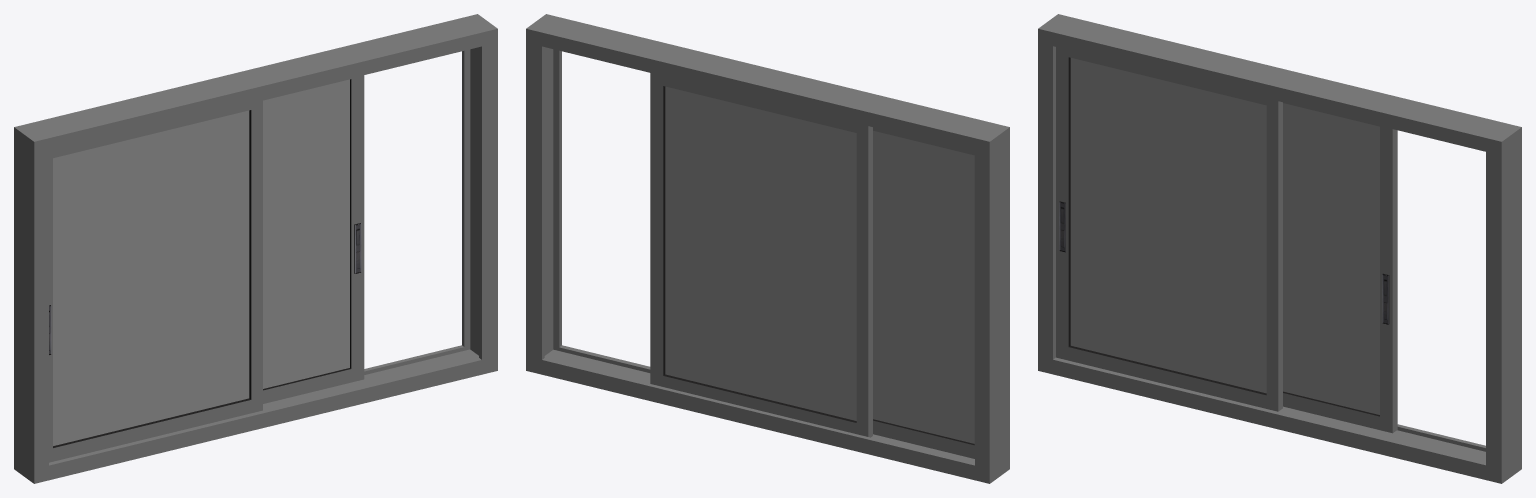
The model's file is Window.fbx.
The picture shows the model from 3 angles, left to right: view 1: azimuth 30°, elevation 25°; view 2: azimuth 150°, elevation 25°; view 3: azimuth 330°, elevation 25°; orthographic projection.
Parts seen in each view (by area): view 1: window A, window frame, window B; view 2: window B, window frame, window A; view 3: window A, window frame, window B.
Part boxes in pixels (left/top/right/bottom): window A: left=49, top=100, right=262, bottom=462; window frame: left=14, top=14, right=497, bottom=483; window B: left=263, top=75, right=364, bottom=403; window B: left=650, top=73, right=872, bottom=437; window frame: left=526, top=14, right=1009, bottom=483; window A: left=873, top=127, right=974, bottom=458; window A: left=1056, top=47, right=1282, bottom=411; window frame: left=1038, top=14, right=1521, bottom=483; window B: left=1283, top=102, right=1397, bottom=433.
Bounding box in the file's own units: 240 × 170 × 18.04.
3 materials, 1 textured.
